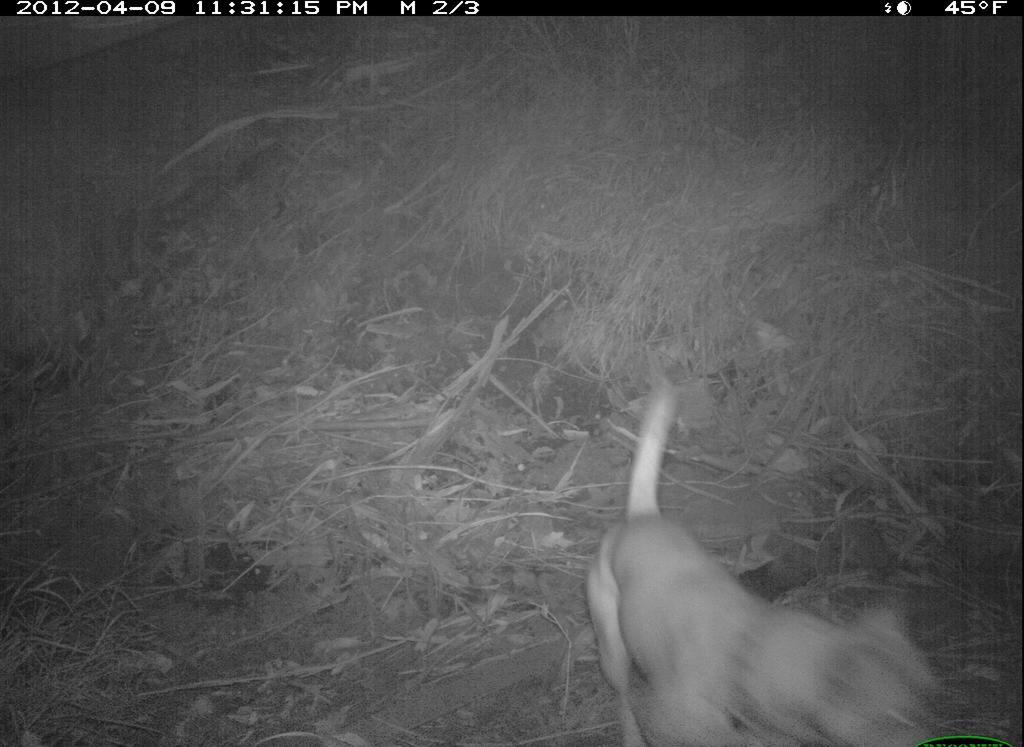dog: (583, 377, 943, 745)
